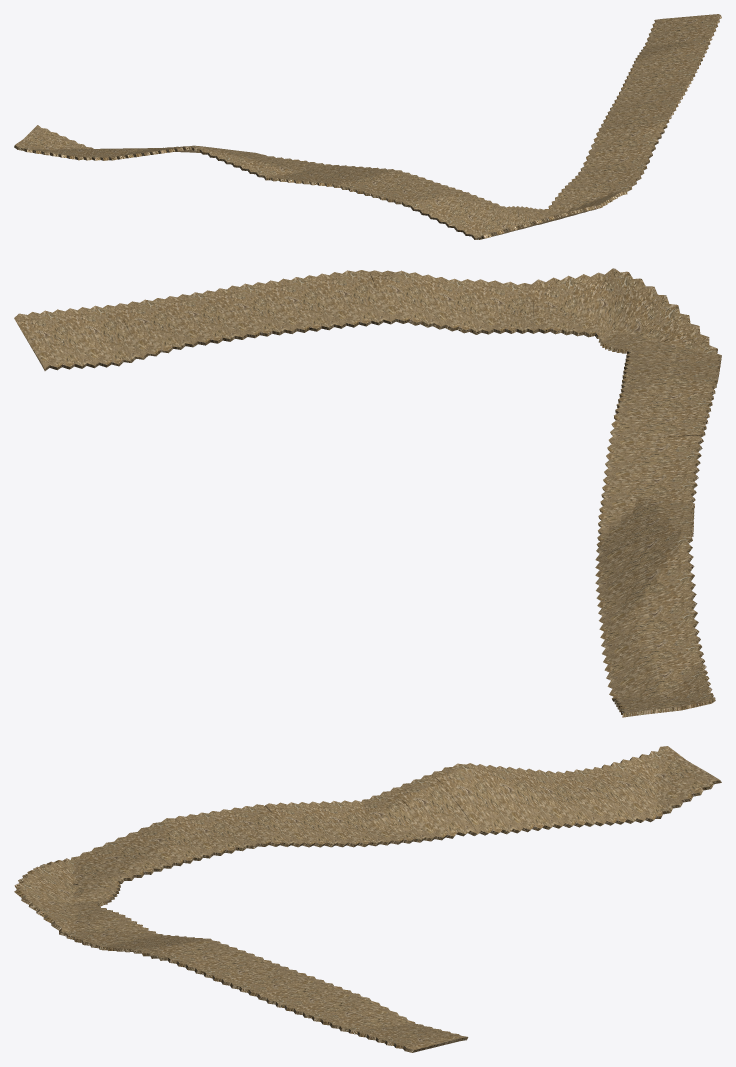
File: Level2B1road.fbx
3 renders of one model, top to bottom at view 1: azimuth 30°, elevation 25°; view 2: azimuth 150°, elevation 25°; view 3: azimuth 270°, elevation 25°, orthographic. The views are drawn at different scales.
Parts seen in each view (by area): view 1: Plane; view 2: Plane; view 3: Plane.
Part boxes in pixels (box(x1,y1,x2,y2)): Plane: box(14, 14, 721, 239); Plane: box(14, 268, 721, 717); Plane: box(14, 746, 721, 1052).
Size of the model in its own units: 3679 by 457 by 2926.
